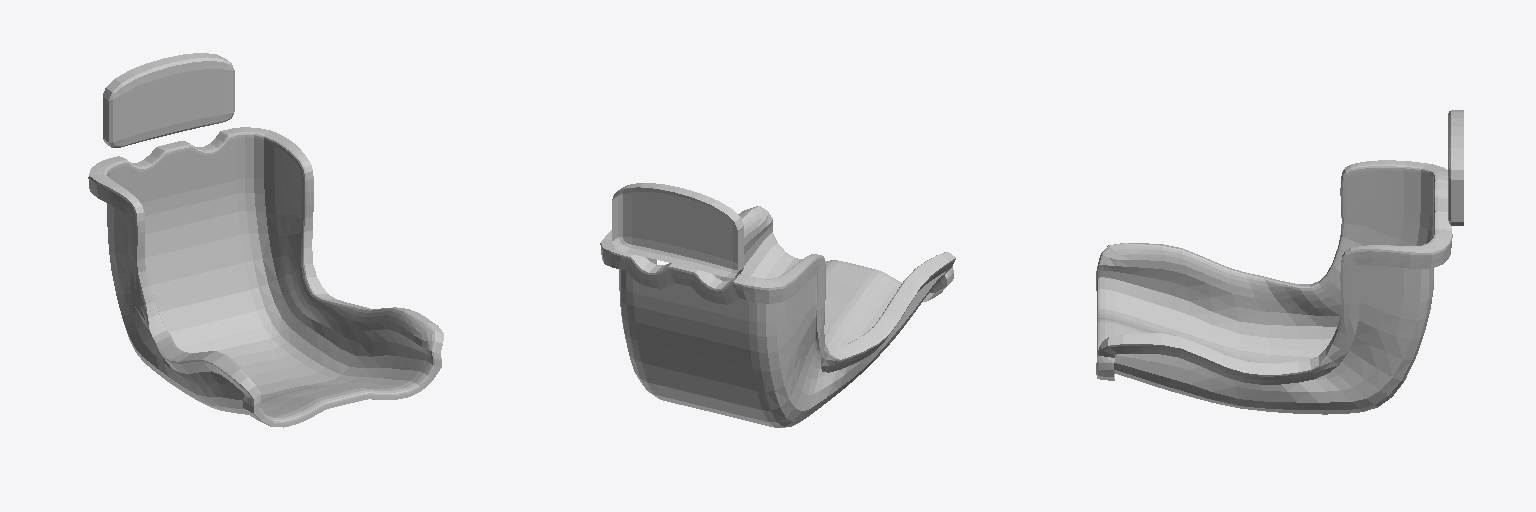
Rendered from Seat.obj.
3 renders of one model, left to right at view 1: azimuth 30°, elevation 25°; view 2: azimuth 150°, elevation 25°; view 3: azimuth 270°, elevation 25°, orthographic.
Visible parts, largest first — view 1: Seat_group__Spark_Renault_SRT_01E_seat; view 2: Seat_group__Spark_Renault_SRT_01E_seat; view 3: Seat_group__Spark_Renault_SRT_01E_seat.
Boxes of the visible parts, box(x1,y1,x2,y2) form: Seat_group__Spark_Renault_SRT_01E_seat: box(88, 53, 443, 427); Seat_group__Spark_Renault_SRT_01E_seat: box(600, 183, 955, 427); Seat_group__Spark_Renault_SRT_01E_seat: box(1096, 110, 1463, 414).
Size of the model in its own units: 0.4117 by 0.4956 by 0.6328.